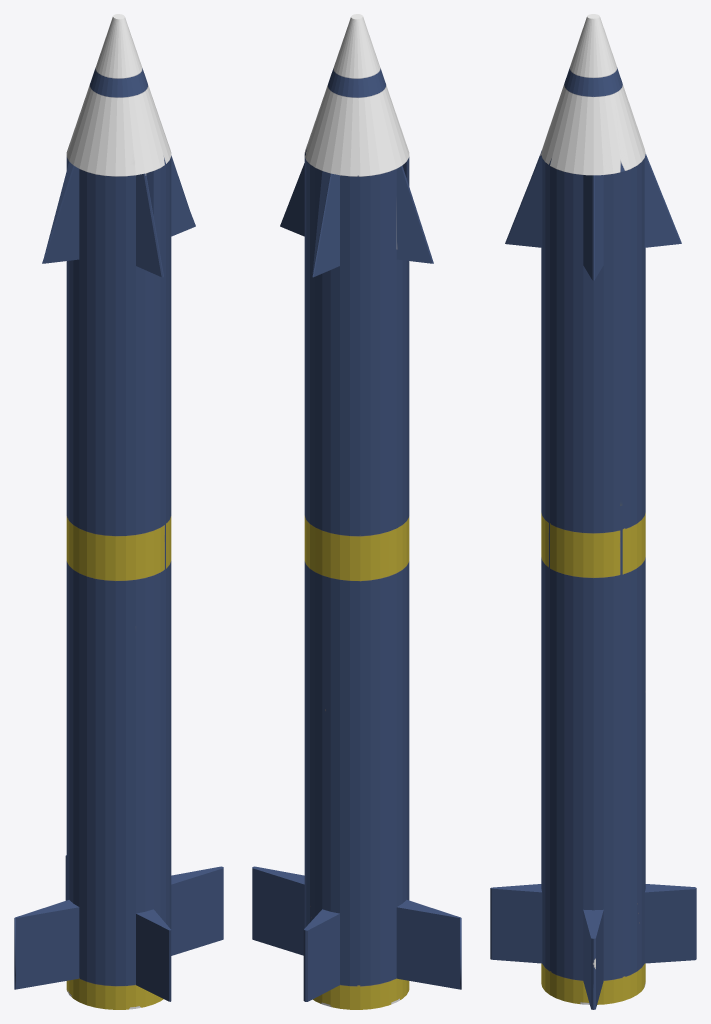
File: missile.fbx
3 renders of one model, left to right at view 1: azimuth 30°, elevation 25°; view 2: azimuth 150°, elevation 25°; view 3: azimuth 270°, elevation 25°, orthographic.
Parts seen in each view (by area): view 1: Cylinder; view 2: Cylinder; view 3: Cylinder.
Part boxes in pixels (<box>): Cylinder: <box>14,14,223,1009</box>; Cylinder: <box>252,14,461,1009</box>; Cylinder: <box>490,14,696,1009</box>.
Bounding box in the file's own units: 459 × 2039 × 394.
